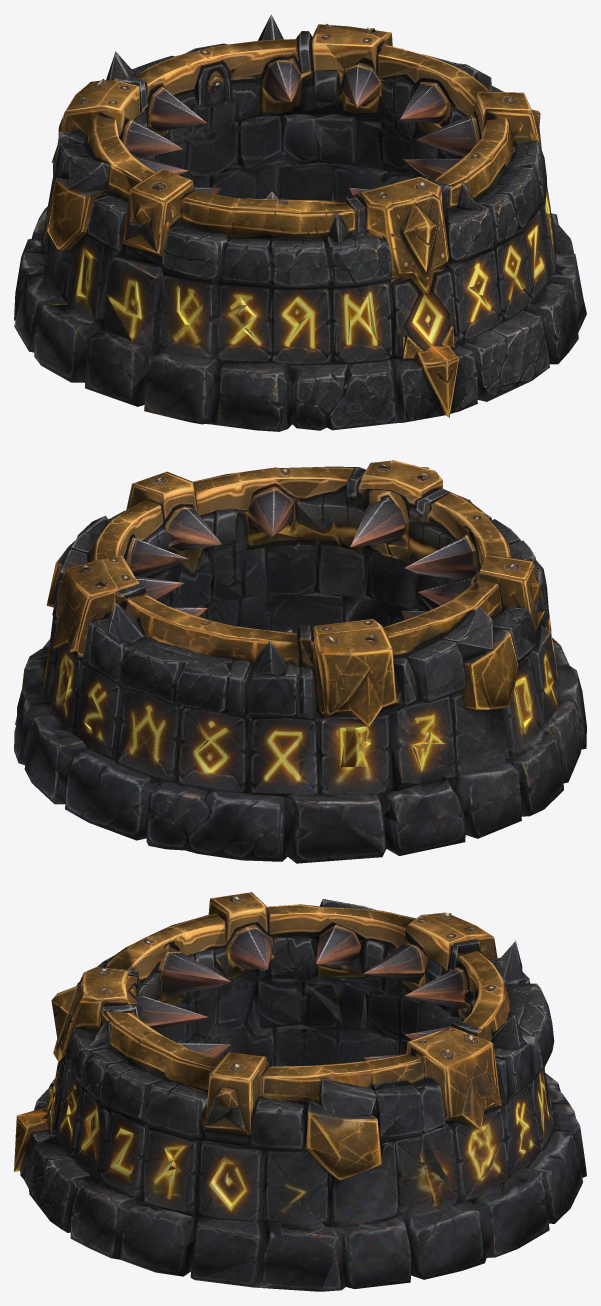
The model's file is pit-2.glb.
3 views of the same model, one above another, from view 1: azimuth 30°, elevation 25°; view 2: azimuth 150°, elevation 25°; view 3: azimuth 270°, elevation 25° (orthographic). The views are drawn at different scales.
Bounding box in the file's own units: 1.98 × 0.7521 × 2.
Materials: 1 (1 with a texture image).
